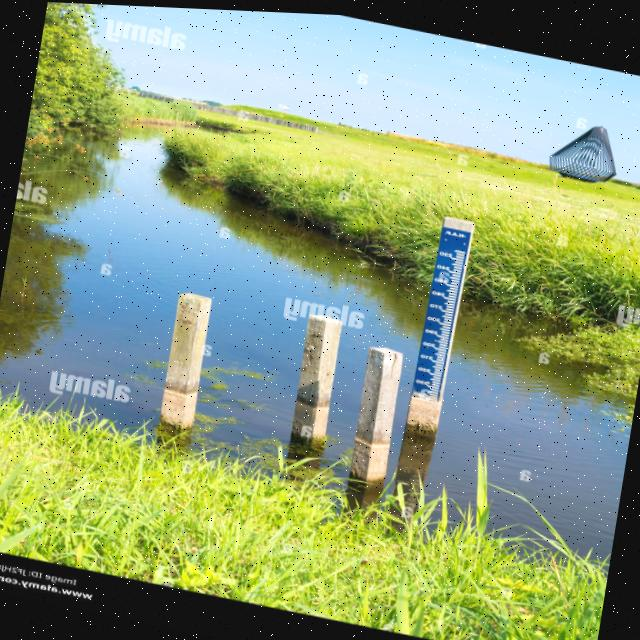water-meter: (409, 223, 470, 404)
